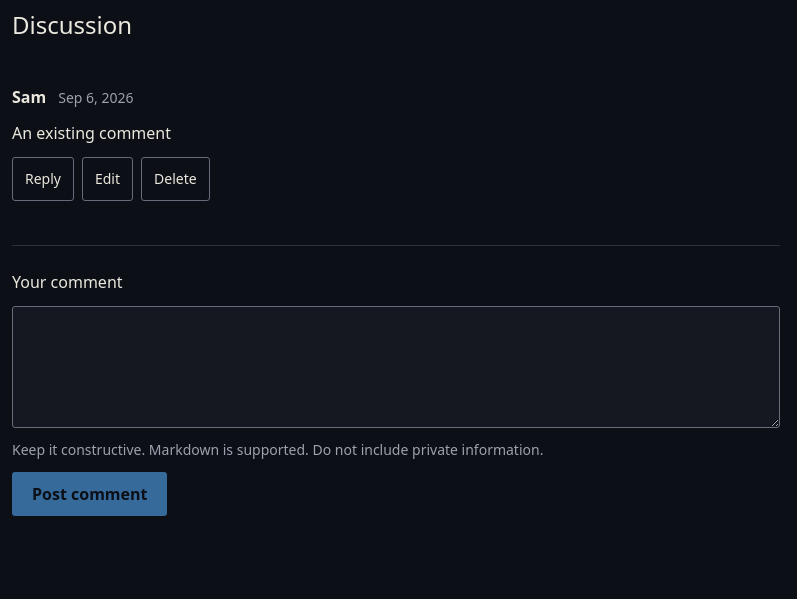
requires confirmation before deleting and preserves reply context
Step 1. Click the button "Delete" → (175, 179), box [141,157,210,201]
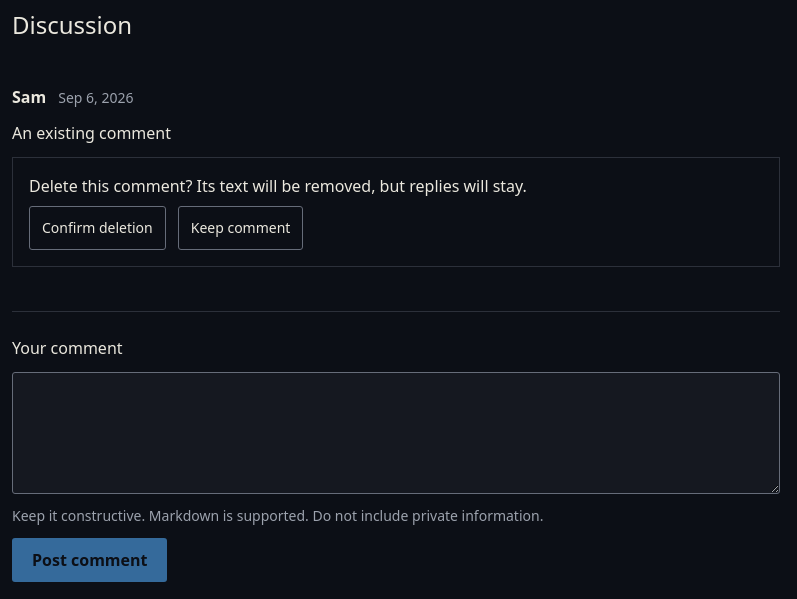
Step 2. Click the button "Confirm deletion" → (97, 228), box [29,206,166,250]
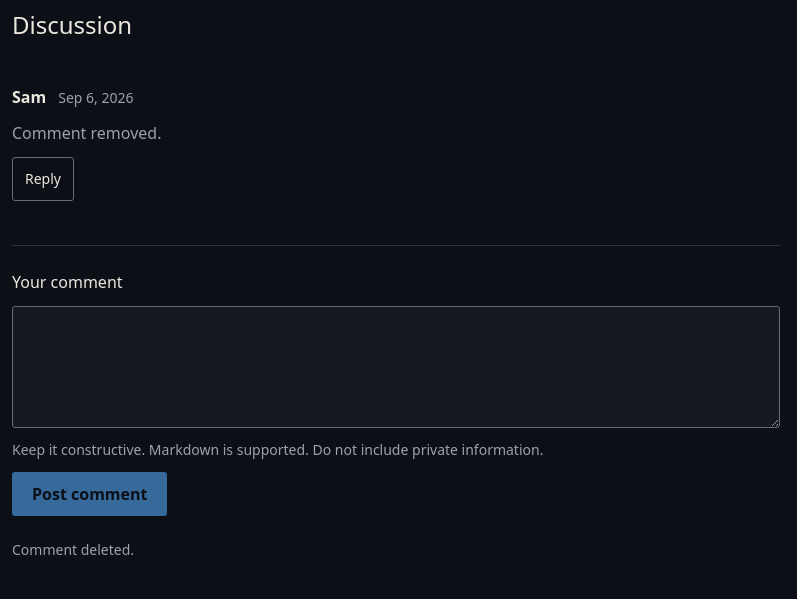
Expected: the text "Comment removed." is shown, [12,122,162,144]
Expected: the text "An existing comment" is gone
